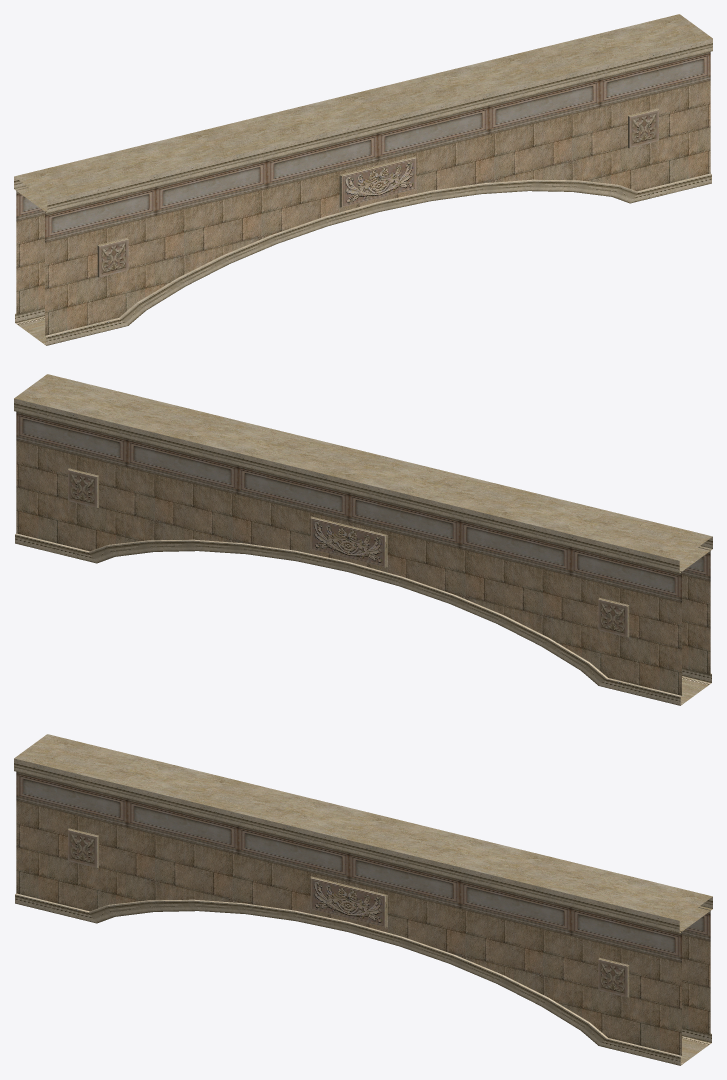
The model's file is thm_nboo_imprv_archway_wide_s02_l0.fbx.
3 views of the same model, one above another, from view 1: azimuth 30°, elevation 25°; view 2: azimuth 150°, elevation 25°; view 3: azimuth 330°, elevation 25° (orthographic).
Parts seen in each view (by area): view 1: mesh_node; view 2: mesh_node; view 3: mesh_node.
Boxes of the visible parts, x1,y1,x2,y2 form: mesh_node: (14, 14, 712, 345); mesh_node: (14, 374, 712, 705); mesh_node: (14, 734, 712, 1065).
Bounding box in the file's own units: 16 × 3.35 × 1.39.
